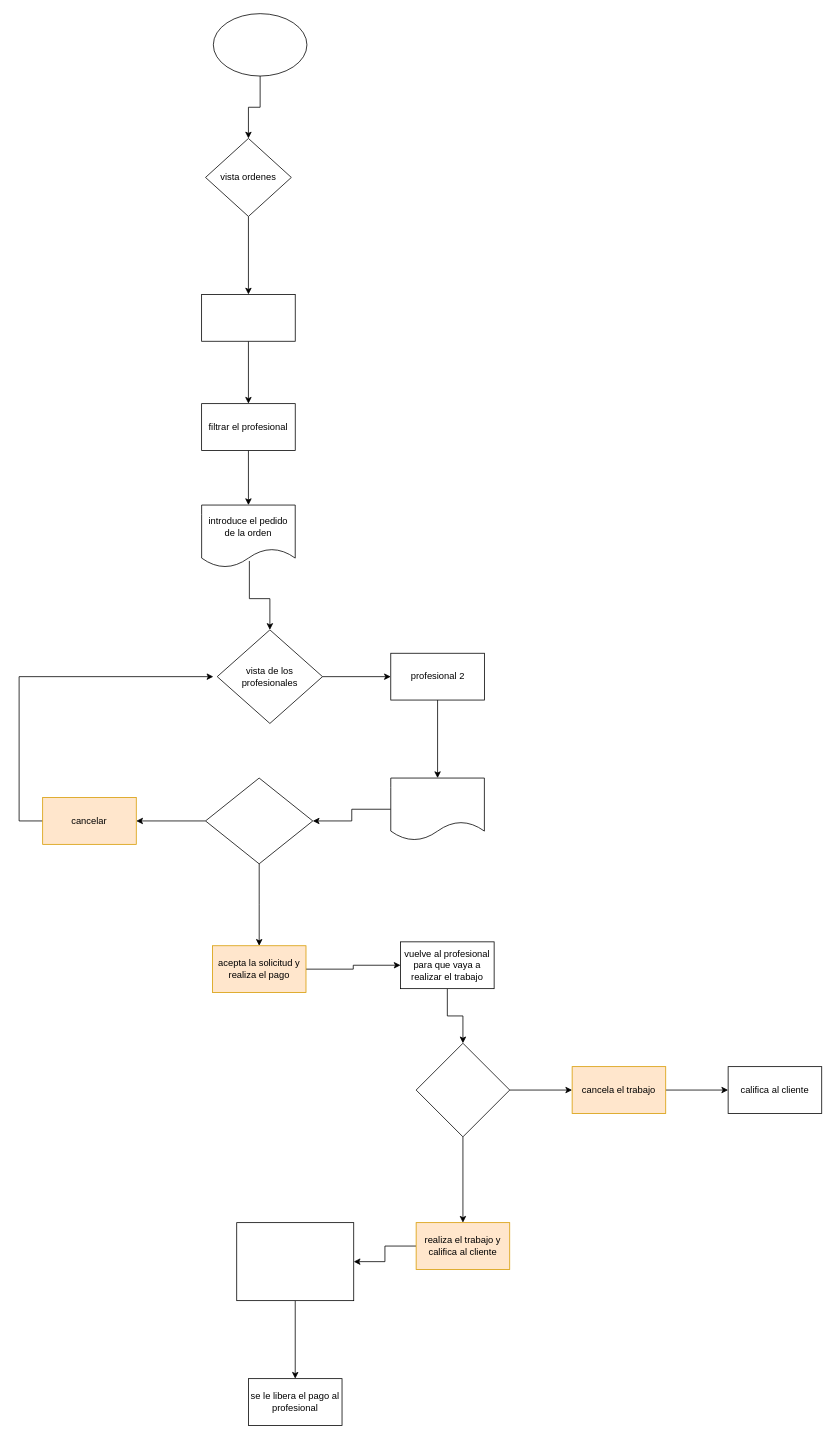
Image size: 835x1439. Some labels were removed from this diagram. The shapes that lost their labels are listed below. From the top down, each one's centre as x and y in pixels, then its label:
At (x=260, y=44): "inicio ordenes".
At (x=248, y=317): "cliente".
At (x=259, y=820): "vuelve a la vista del cliente".
At (x=437, y=808): "aceptan la orden colocando un precio".
At (x=462, y=1089): "va a realizar el trabajo".
At (x=295, y=1261): "cliente realiza su conformidad calificando al profesional".
